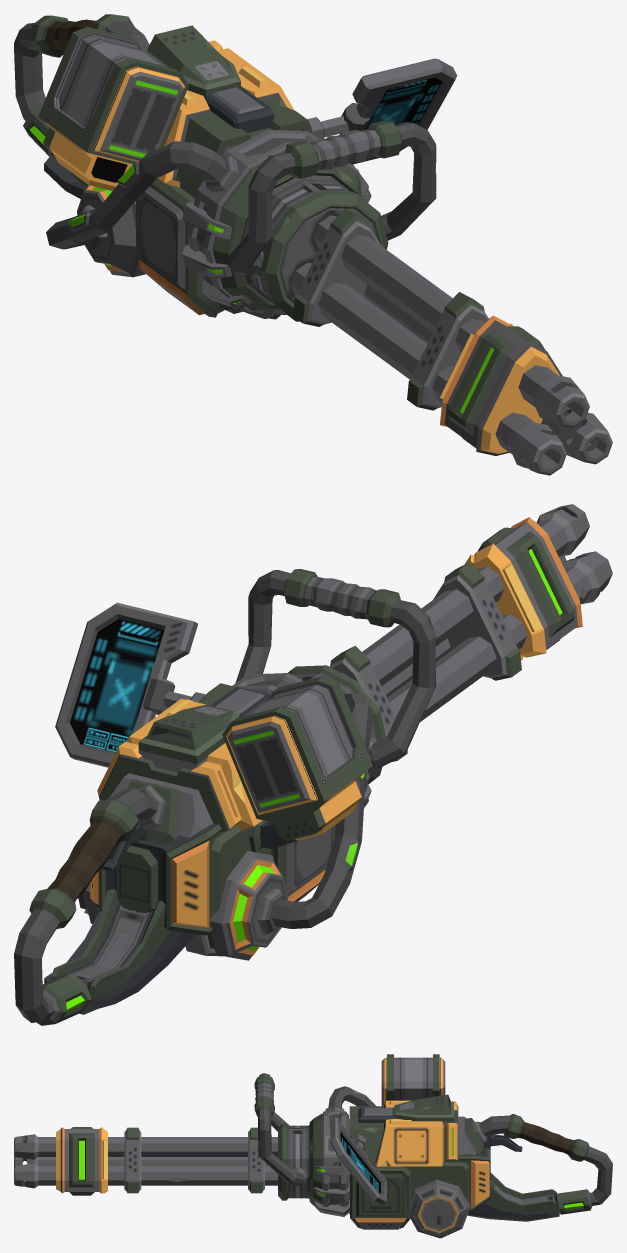
The model's file is SM_Wep_GattlingGun_01.fbx.
The picture shows the model from 3 angles, top to bottom: view 1: azimuth 30°, elevation 25°; view 2: azimuth 150°, elevation 25°; view 3: azimuth 270°, elevation 25°; orthographic projection. The views are drawn at different scales.
Visible parts, largest first — view 1: SM_Wep_GattlingGun_01, SM_Wep_GattlingGun_01_Monitor_01; view 2: SM_Wep_GattlingGun_01, SM_Wep_GattlingGun_01_Monitor_01; view 3: SM_Wep_GattlingGun_01, SM_Wep_GattlingGun_01_Monitor_01.
Boxes of the visible parts, <box> form: SM_Wep_GattlingGun_01: <box>14,14,612,475</box>; SM_Wep_GattlingGun_01_Monitor_01: <box>364,77,442,129</box>; SM_Wep_GattlingGun_01: <box>14,504,612,1025</box>; SM_Wep_GattlingGun_01_Monitor_01: <box>71,620,163,752</box>; SM_Wep_GattlingGun_01: <box>14,1054,612,1238</box>; SM_Wep_GattlingGun_01_Monitor_01: <box>340,1135,379,1192</box>.
Bounding box in the file's own units: 182 × 140 × 533.
